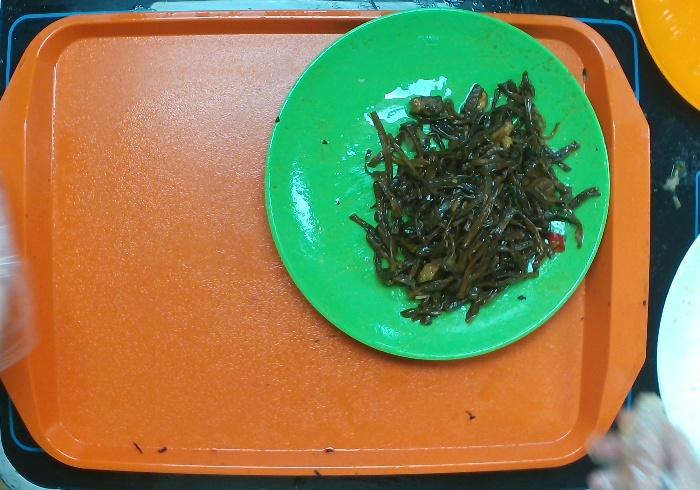HZYJPL-Lv_Se_Yuan_Pan: (251, 1, 622, 374)
